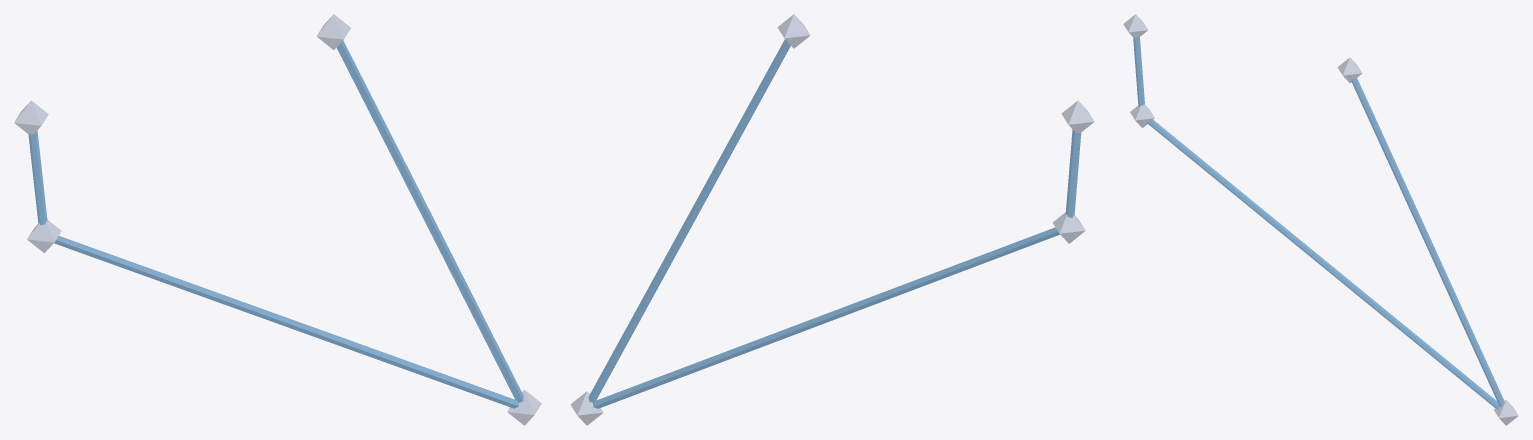
Rendered from constellation-sex.glb.
The picture shows the model from 3 angles, left to right: view 1: azimuth 30°, elevation 25°; view 2: azimuth 150°, elevation 25°; view 3: azimuth 330°, elevation 25°; orthographic projection. The views are drawn at different scales.
Size of the model in its own units: 1.05 by 0.8784 by 0.1118.
